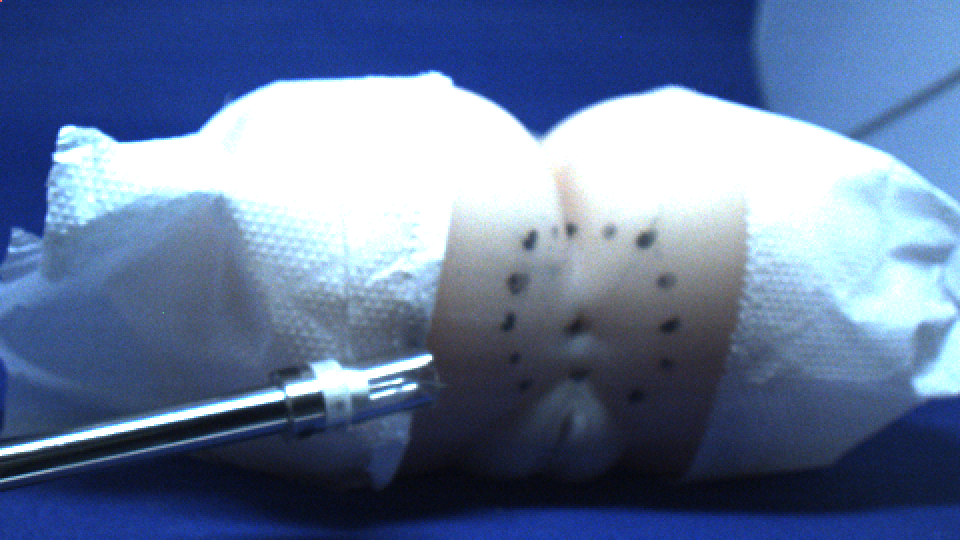asarp_marker: (650, 269, 684, 295), (569, 361, 599, 387), (520, 226, 543, 257), (654, 313, 683, 337), (508, 271, 534, 294), (637, 224, 660, 249), (501, 311, 523, 336), (625, 387, 650, 408), (517, 378, 545, 395), (506, 345, 527, 366), (601, 224, 621, 245), (658, 352, 676, 375)
